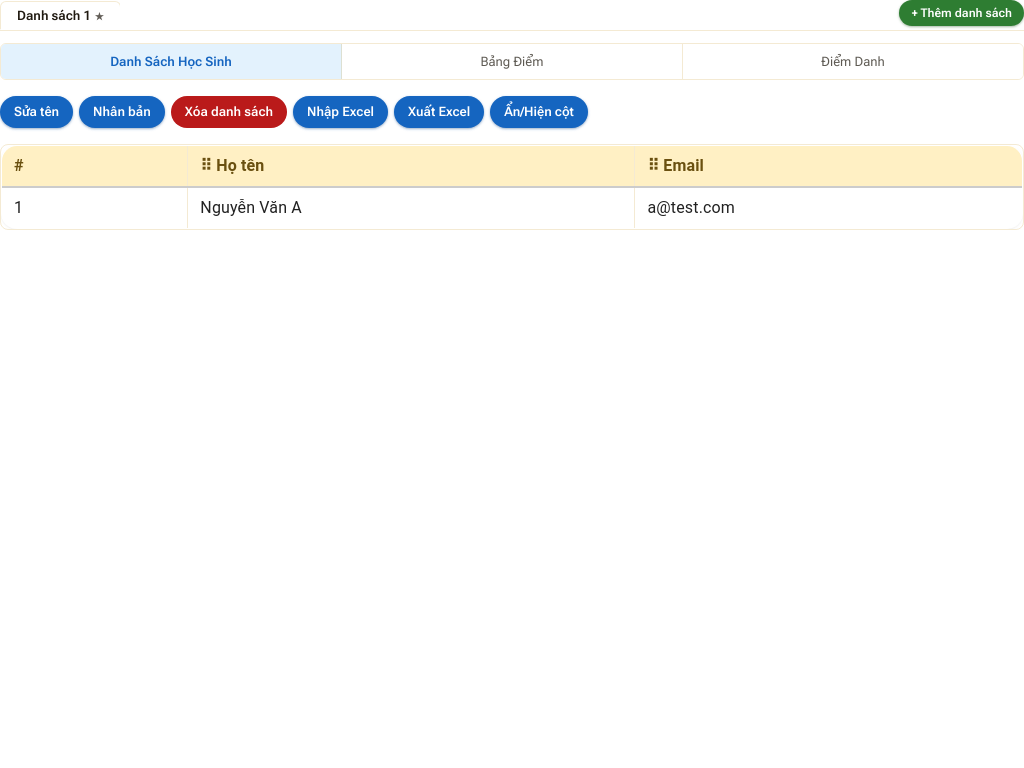
StudentListTabs › opens import modal when clicking Nhập Excel
Step 1. Click the button "Nhập Excel" → (340, 112), box top-left (293, 96), bottom-right (388, 128)
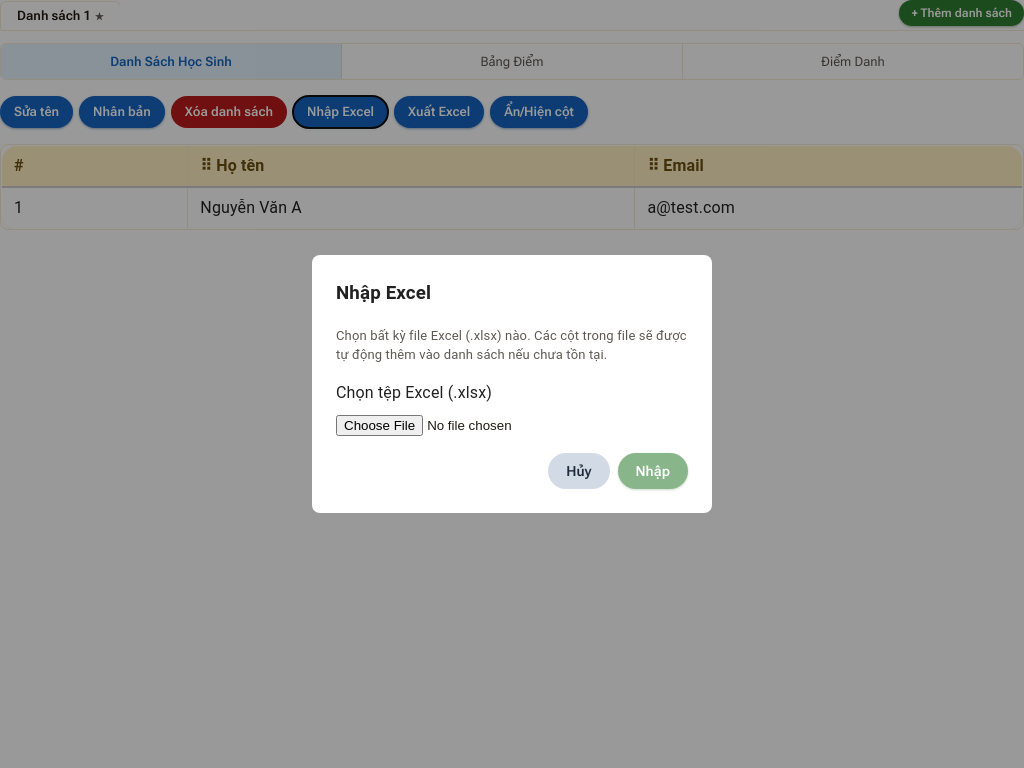
Now the dialog "Nhập Excel" is shown
Now the text "Chọn tệp Excel (.xlsx)" is shown, box top-left (336, 382), bottom-right (492, 402)
